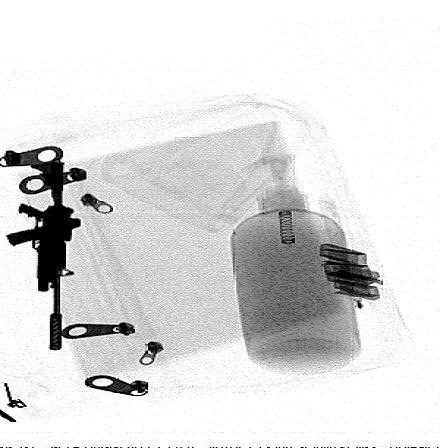Gun: (4, 161, 82, 351)
